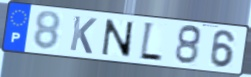6: (209, 29, 238, 69)
8: (31, 10, 65, 53), (173, 24, 204, 67)
K: (68, 14, 99, 56)
L: (137, 20, 164, 64)
N: (101, 18, 135, 59)
